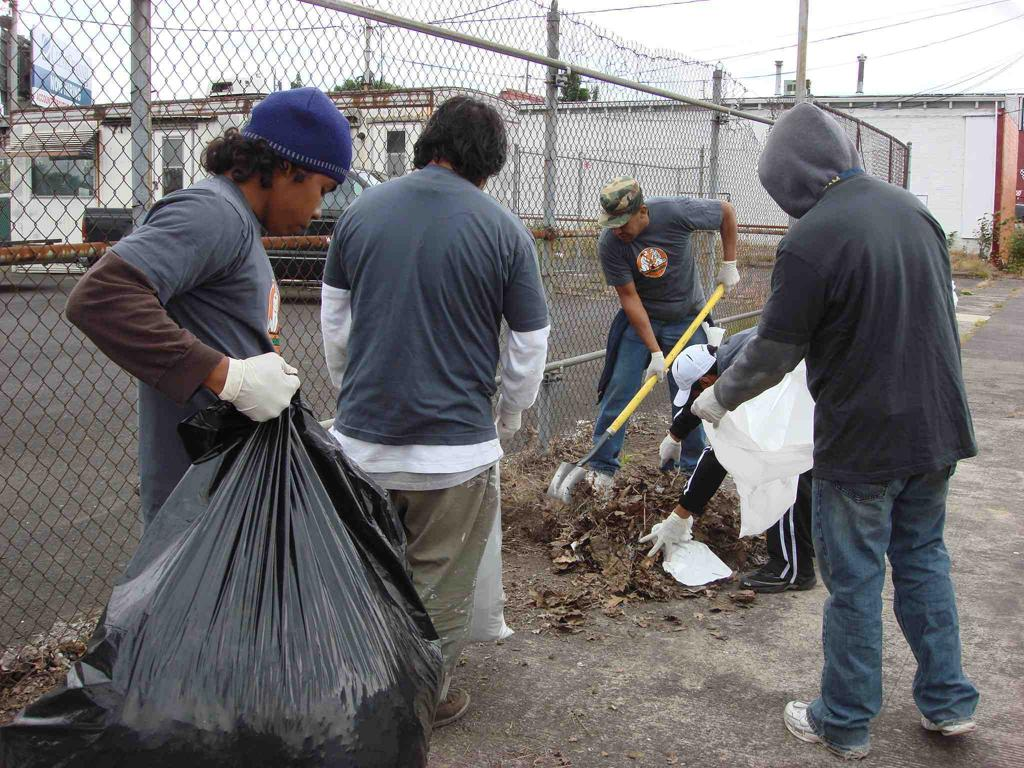face: (266, 134, 342, 236)
